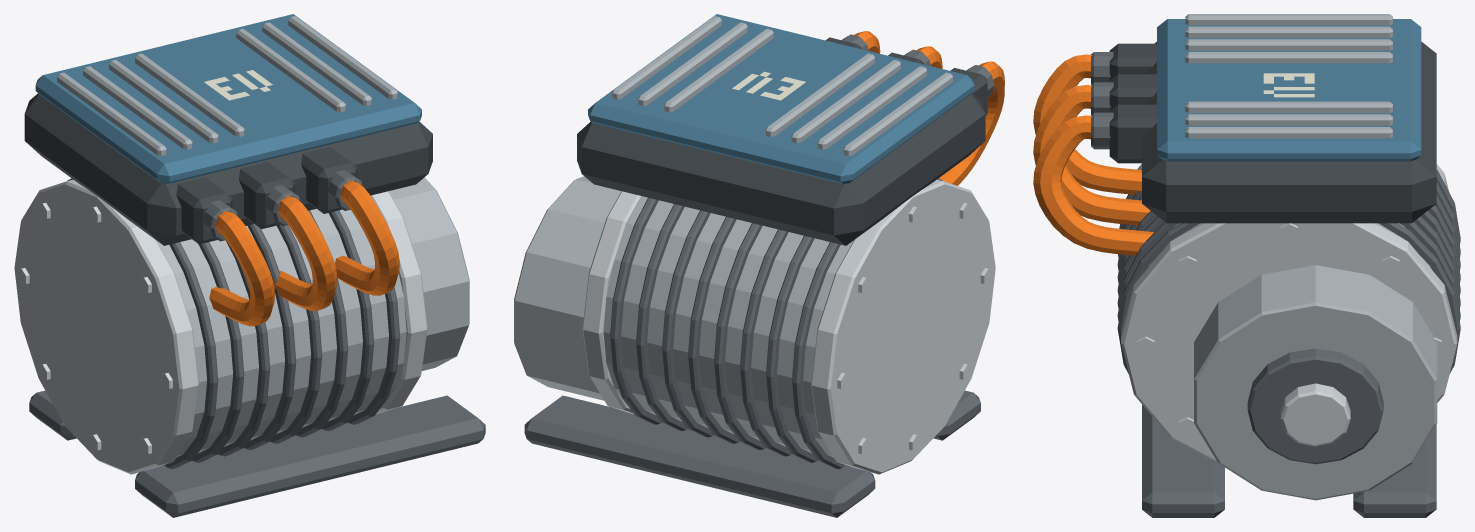
Rendered from electricmotor.glb.
3 renders of one model, left to right at view 1: azimuth 30°, elevation 25°; view 2: azimuth 150°, elevation 25°; view 3: azimuth 270°, elevation 25°, orthographic.
Visible parts, largest first — view 1: ElectricMotor; view 2: ElectricMotor; view 3: ElectricMotor.
Part boxes in pixels (x1,y1,x2,y2): ElectricMotor: (14,14,485,517); ElectricMotor: (514,14,1004,517); ElectricMotor: (1033,14,1460,517).
Bounding box in the file's own units: 1.94 × 1.77 × 1.92.
